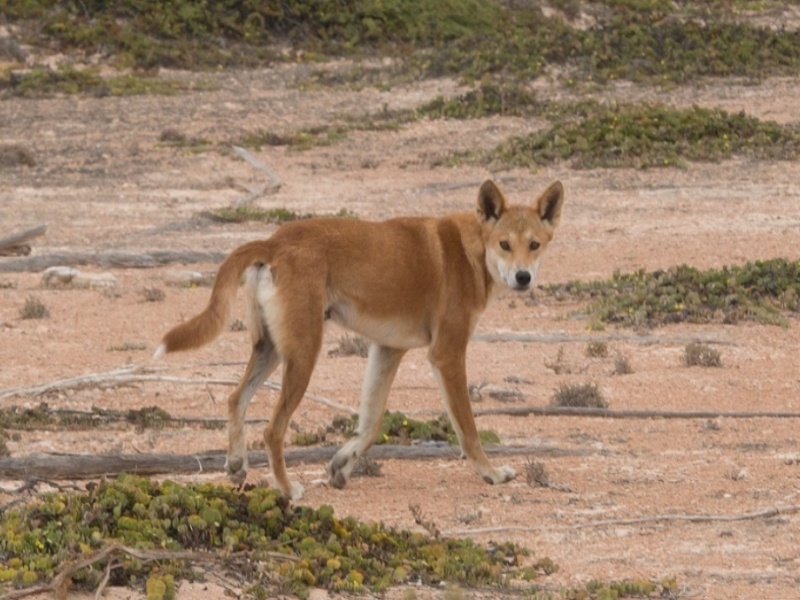dog: (147, 170, 566, 499)
